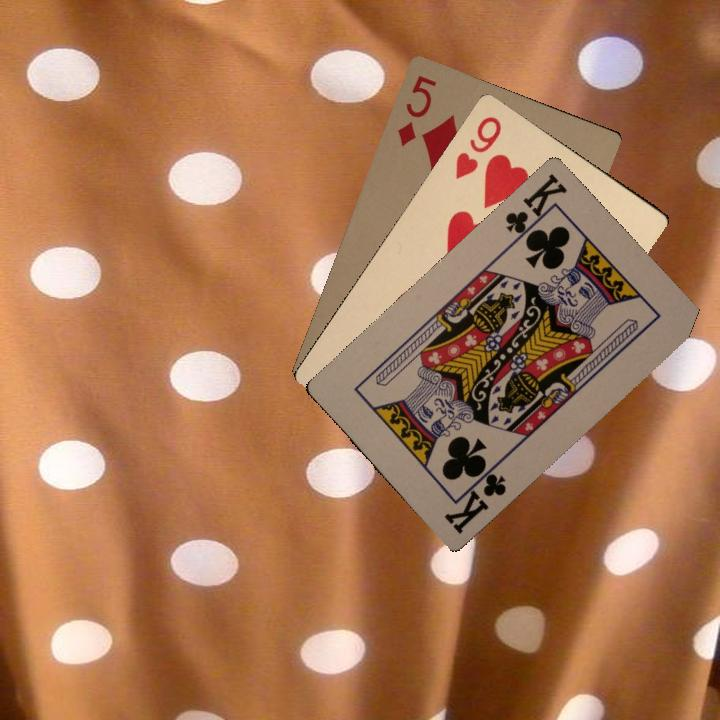5d: (393, 71, 439, 149)
9h: (451, 112, 504, 182)
Kc: (501, 169, 570, 246), (440, 460, 509, 536)
